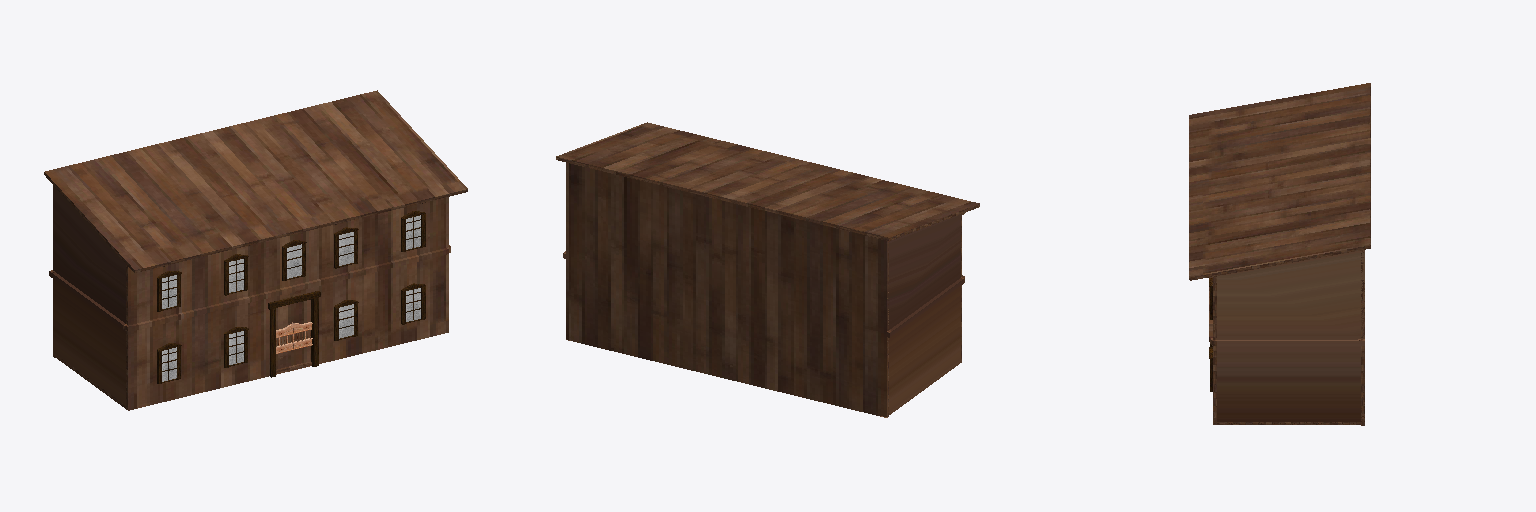
The picture shows the model from 3 angles: view 1: azimuth 30°, elevation 25°; view 2: azimuth 150°, elevation 25°; view 3: azimuth 270°, elevation 25°; orthographic projection.
Visible parts, largest first — view 1: Saloon:pCube224saloon, Saloon:saloonpCube226; view 2: pCube224saloon, Saloon:saloonpCube226, Saloon:pCube224saloon; view 3: Saloon:saloonpCube226, Saloon:pCube224saloon.
Part boxes in pixels (left/top/right/bottom): Saloon:pCube224saloon: left=49, top=185, right=450, bottom=410; Saloon:saloonpCube226: left=44, top=90, right=467, bottom=272; pCube224saloon: left=564, top=164, right=890, bottom=417; Saloon:saloonpCube226: left=556, top=122, right=979, bottom=240; Saloon:pCube224saloon: left=563, top=163, right=964, bottom=416; Saloon:saloonpCube226: left=1189, top=83, right=1370, bottom=280; Saloon:pCube224saloon: left=1209, top=250, right=1364, bottom=424.
Size of the model in its own units: 52 by 27.42 by 24.63.
Materials: 1 (1 with a texture image).